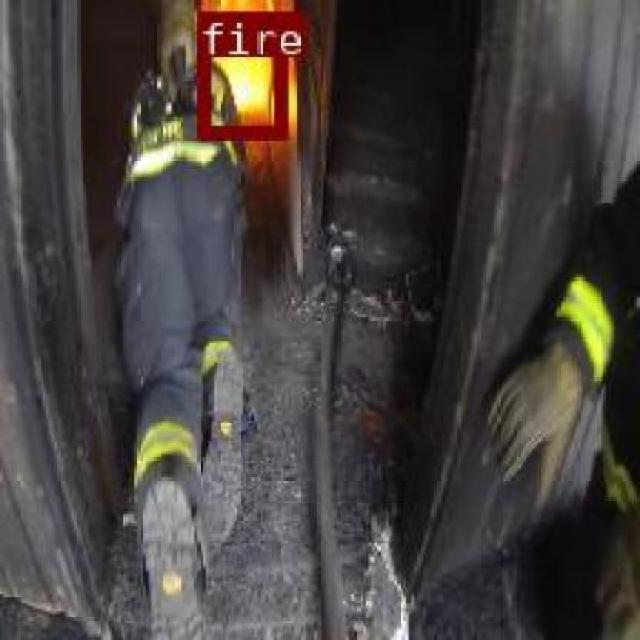Fire: (194, 10, 283, 135)
